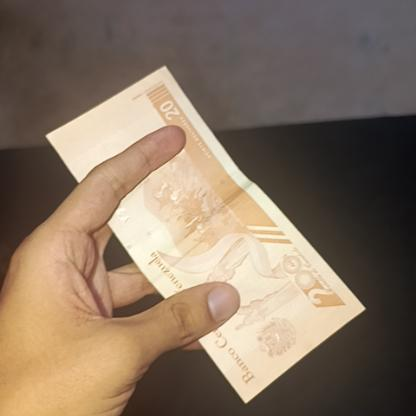twenty-back-vef: (42, 65, 394, 407)
